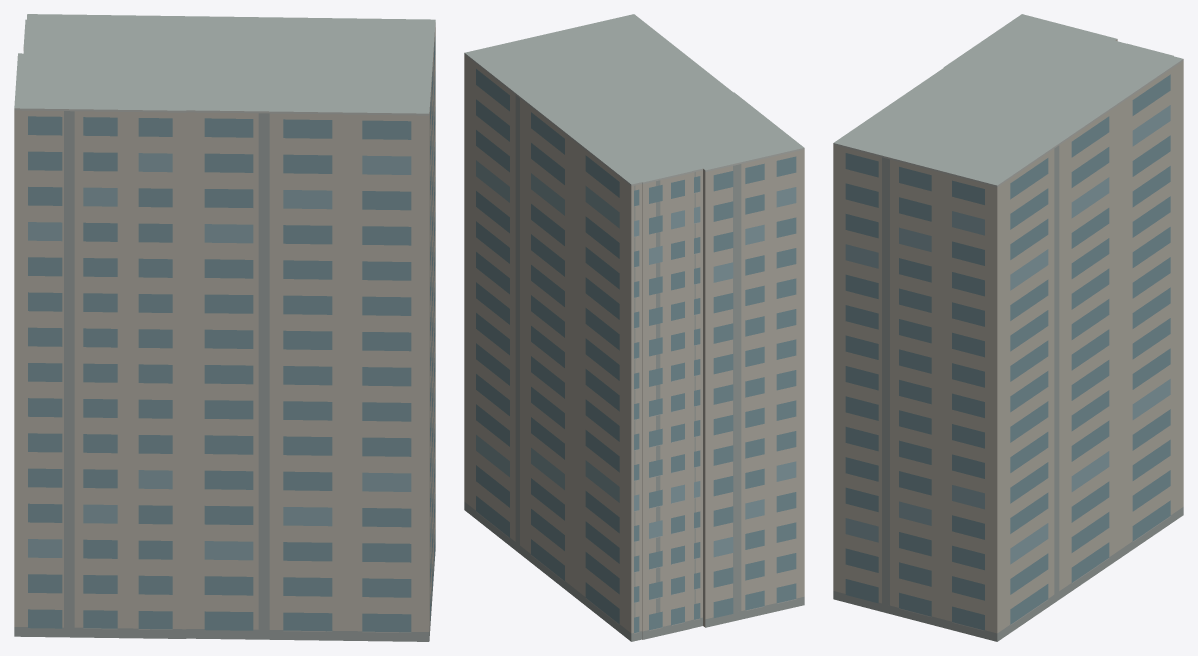
File: survey-upis-32958426.glb
3 renders of one model, left to right at view 1: azimuth 30°, elevation 25°; view 2: azimuth 150°, elevation 25°; view 3: azimuth 270°, elevation 25°, orthographic. The views are drawn at different scales.
Parts seen in each view (by area): view 1: survey-upis-32958426.tmp; view 2: survey-upis-32958426.tmp; view 3: survey-upis-32958426.tmp.
Part boxes in pixels (x1=…): survey-upis-32958426.tmp: x1=14, y1=14, x2=435, y2=641; survey-upis-32958426.tmp: x1=464, y1=14, x2=804, y2=641; survey-upis-32958426.tmp: x1=833, y1=14, x2=1183, y2=641.
Size of the model in its own units: 52.22 by 64.75 by 45.03.
